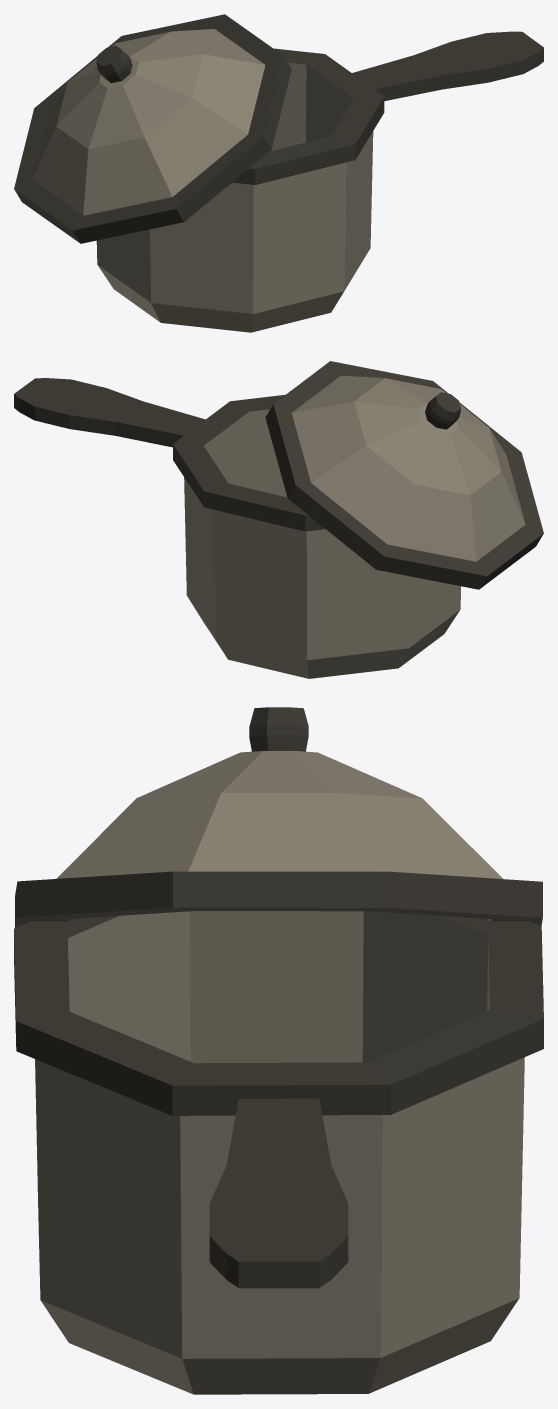
Rendered from pot 1.fbx.
The picture shows the model from 3 angles, top to bottom: view 1: azimuth 30°, elevation 25°; view 2: azimuth 150°, elevation 25°; view 3: azimuth 270°, elevation 25°; orthographic projection. The views are drawn at different scales.
Parts seen in each view (by area): view 1: pot; view 2: pot; view 3: pot.
Part boxes in pixels (left/top/right/bottom): pot: left=14, top=14, right=543, bottom=332; pot: left=14, top=361, right=543, bottom=678; pot: left=14, top=707, right=543, bottom=1394.
Bounding box in the file's own units: 106 × 54.27 × 52.93.
